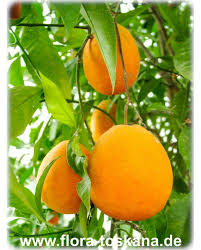orange: (86, 123, 175, 218), (38, 136, 96, 218), (82, 23, 139, 94)
